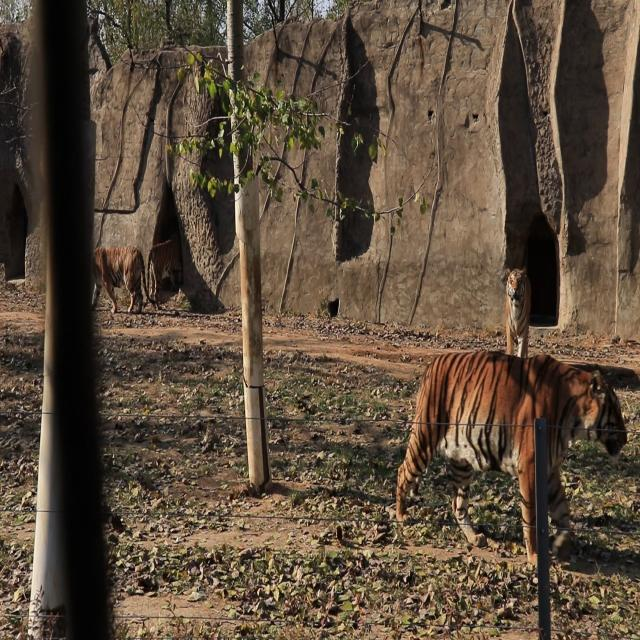Tiger: (384, 338, 626, 600), (90, 236, 148, 312), (503, 261, 533, 364), (143, 232, 183, 300)
